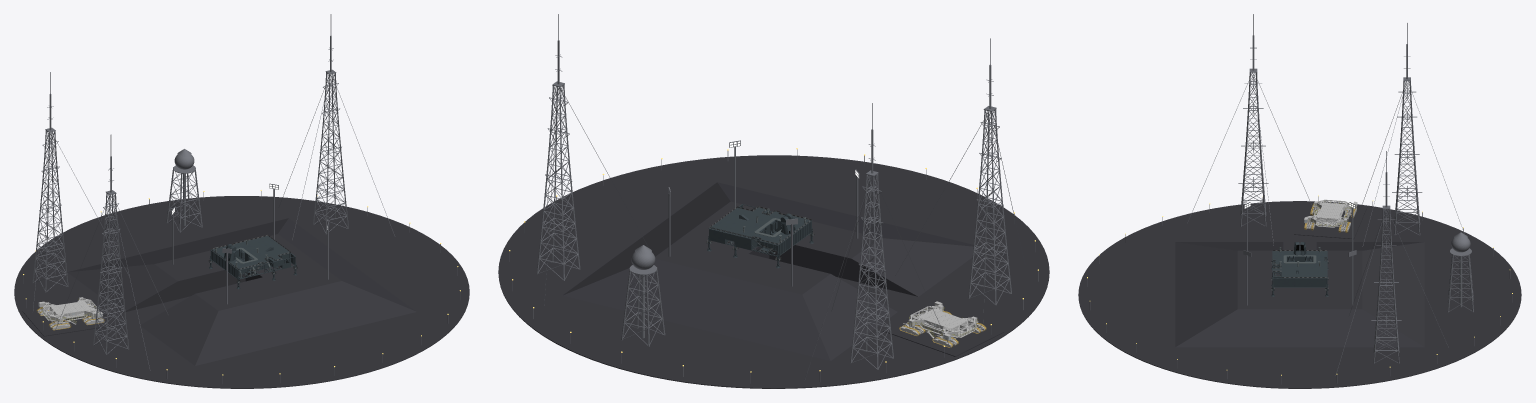
Rendered from launch_env_lc39b.glb.
3 views of the same model, side by side, from view 1: azimuth 30°, elevation 25°; view 2: azimuth 150°, elevation 25°; view 3: azimuth 270°, elevation 25° (orthographic). The views are drawn at different scales.
Visible parts, largest first — view 1: env_concrete, env_steel, ml_deck_MLP-1_HP_ececfb, crawler_polySurface1_c17098; view 2: env_concrete, env_steel, ml_deck_MLP-1_HP_ececfb, crawler_polySurface1_c17098, crawler_polySurface1_e22b2f, ml_deck_MLP-1_HP_566af0; view 3: env_concrete, env_steel, ml_deck_MLP-1_HP_ececfb, crawler_polySurface1_c17098.
Part boxes in pixels (x1,y1,x2,y2): env_concrete: (14, 196, 469, 388); env_steel: (23, 14, 460, 383); ml_deck_MLP-1_HP_ececfb: (208, 236, 297, 289); crawler_polySurface1_c17098: (38, 297, 102, 324); env_concrete: (498, 155, 1049, 388); env_steel: (509, 14, 1038, 383); ml_deck_MLP-1_HP_ececfb: (706, 204, 814, 268); crawler_polySurface1_c17098: (907, 301, 978, 340); crawler_polySurface1_e22b2f: (902, 308, 982, 345); ml_deck_MLP-1_HP_566af0: (706, 206, 814, 260); env_concrete: (1078, 201, 1521, 388); env_steel: (1087, 14, 1512, 384); ml_deck_MLP-1_HP_ececfb: (1271, 242, 1328, 296); crawler_polySurface1_c17098: (1304, 199, 1357, 227).
Size of the model in its own units: 320 by 166 by 320.
12 materials, 2 textured.
